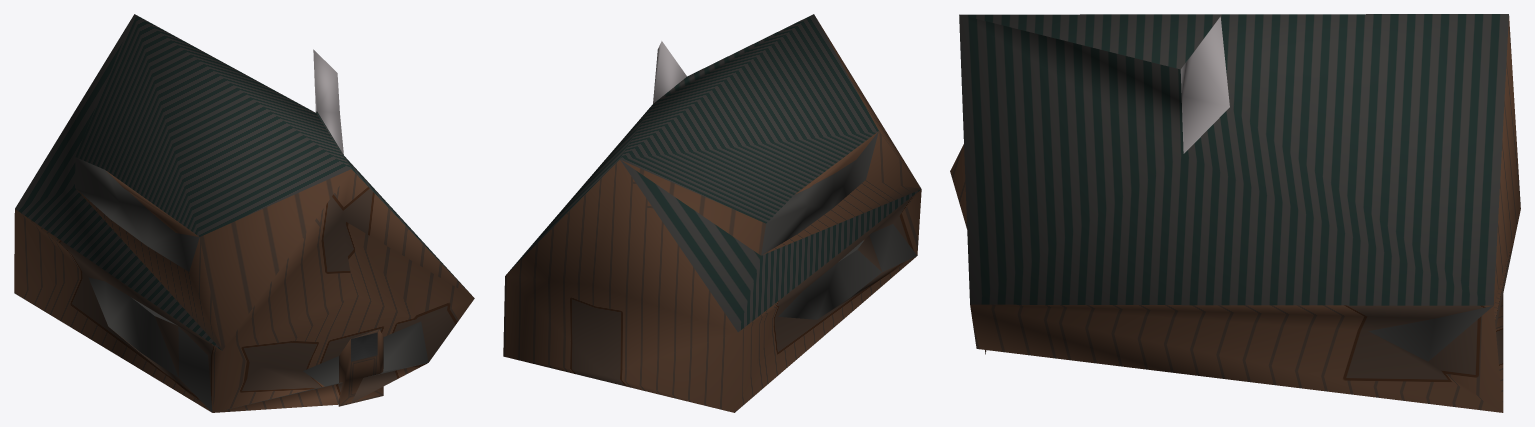
File: Cabin0.1.glb
3 views of the same model, side by side, from view 1: azimuth 30°, elevation 25°; view 2: azimuth 150°, elevation 25°; view 3: azimuth 270°, elevation 25° (orthographic). The views are drawn at different scales.
Visible parts, largest first — view 1: Cabin.001; view 2: Cabin.001; view 3: Cabin.001.
Part boxes in pixels (left/top/right/bottom): Cabin.001: left=14, top=14, right=474, bottom=412; Cabin.001: left=503, top=14, right=921, bottom=412; Cabin.001: left=950, top=14, right=1520, bottom=412.
Size of the model in its own units: 0.1117 by 0.1165 by 0.1685.
1 material, 1 textured.
